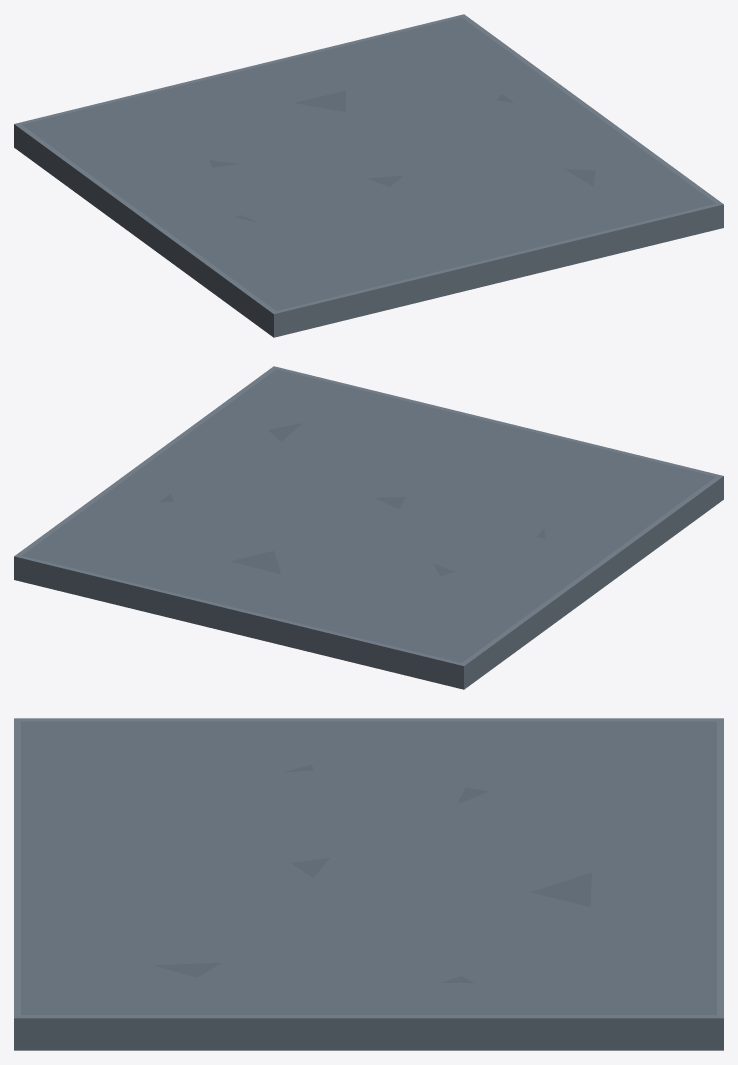
File: ConcrateSlabs_D_1_3.fbx
3 renders of one model, top to bottom at view 1: azimuth 30°, elevation 25°; view 2: azimuth 150°, elevation 25°; view 3: azimuth 270°, elevation 25°, orthographic. The views are drawn at different scales.
Parts seen in each view (by area): view 1: ConcrateSlabs_D_1_3; view 2: ConcrateSlabs_D_1_3; view 3: ConcrateSlabs_D_1_3.
Boxes of the visible parts, x1,y1,x2,y2 form: ConcrateSlabs_D_1_3: (14,14,723,337); ConcrateSlabs_D_1_3: (14,366,723,689); ConcrateSlabs_D_1_3: (14,718,723,1050).
Size of the model in its own units: 800 by 40 by 800.
